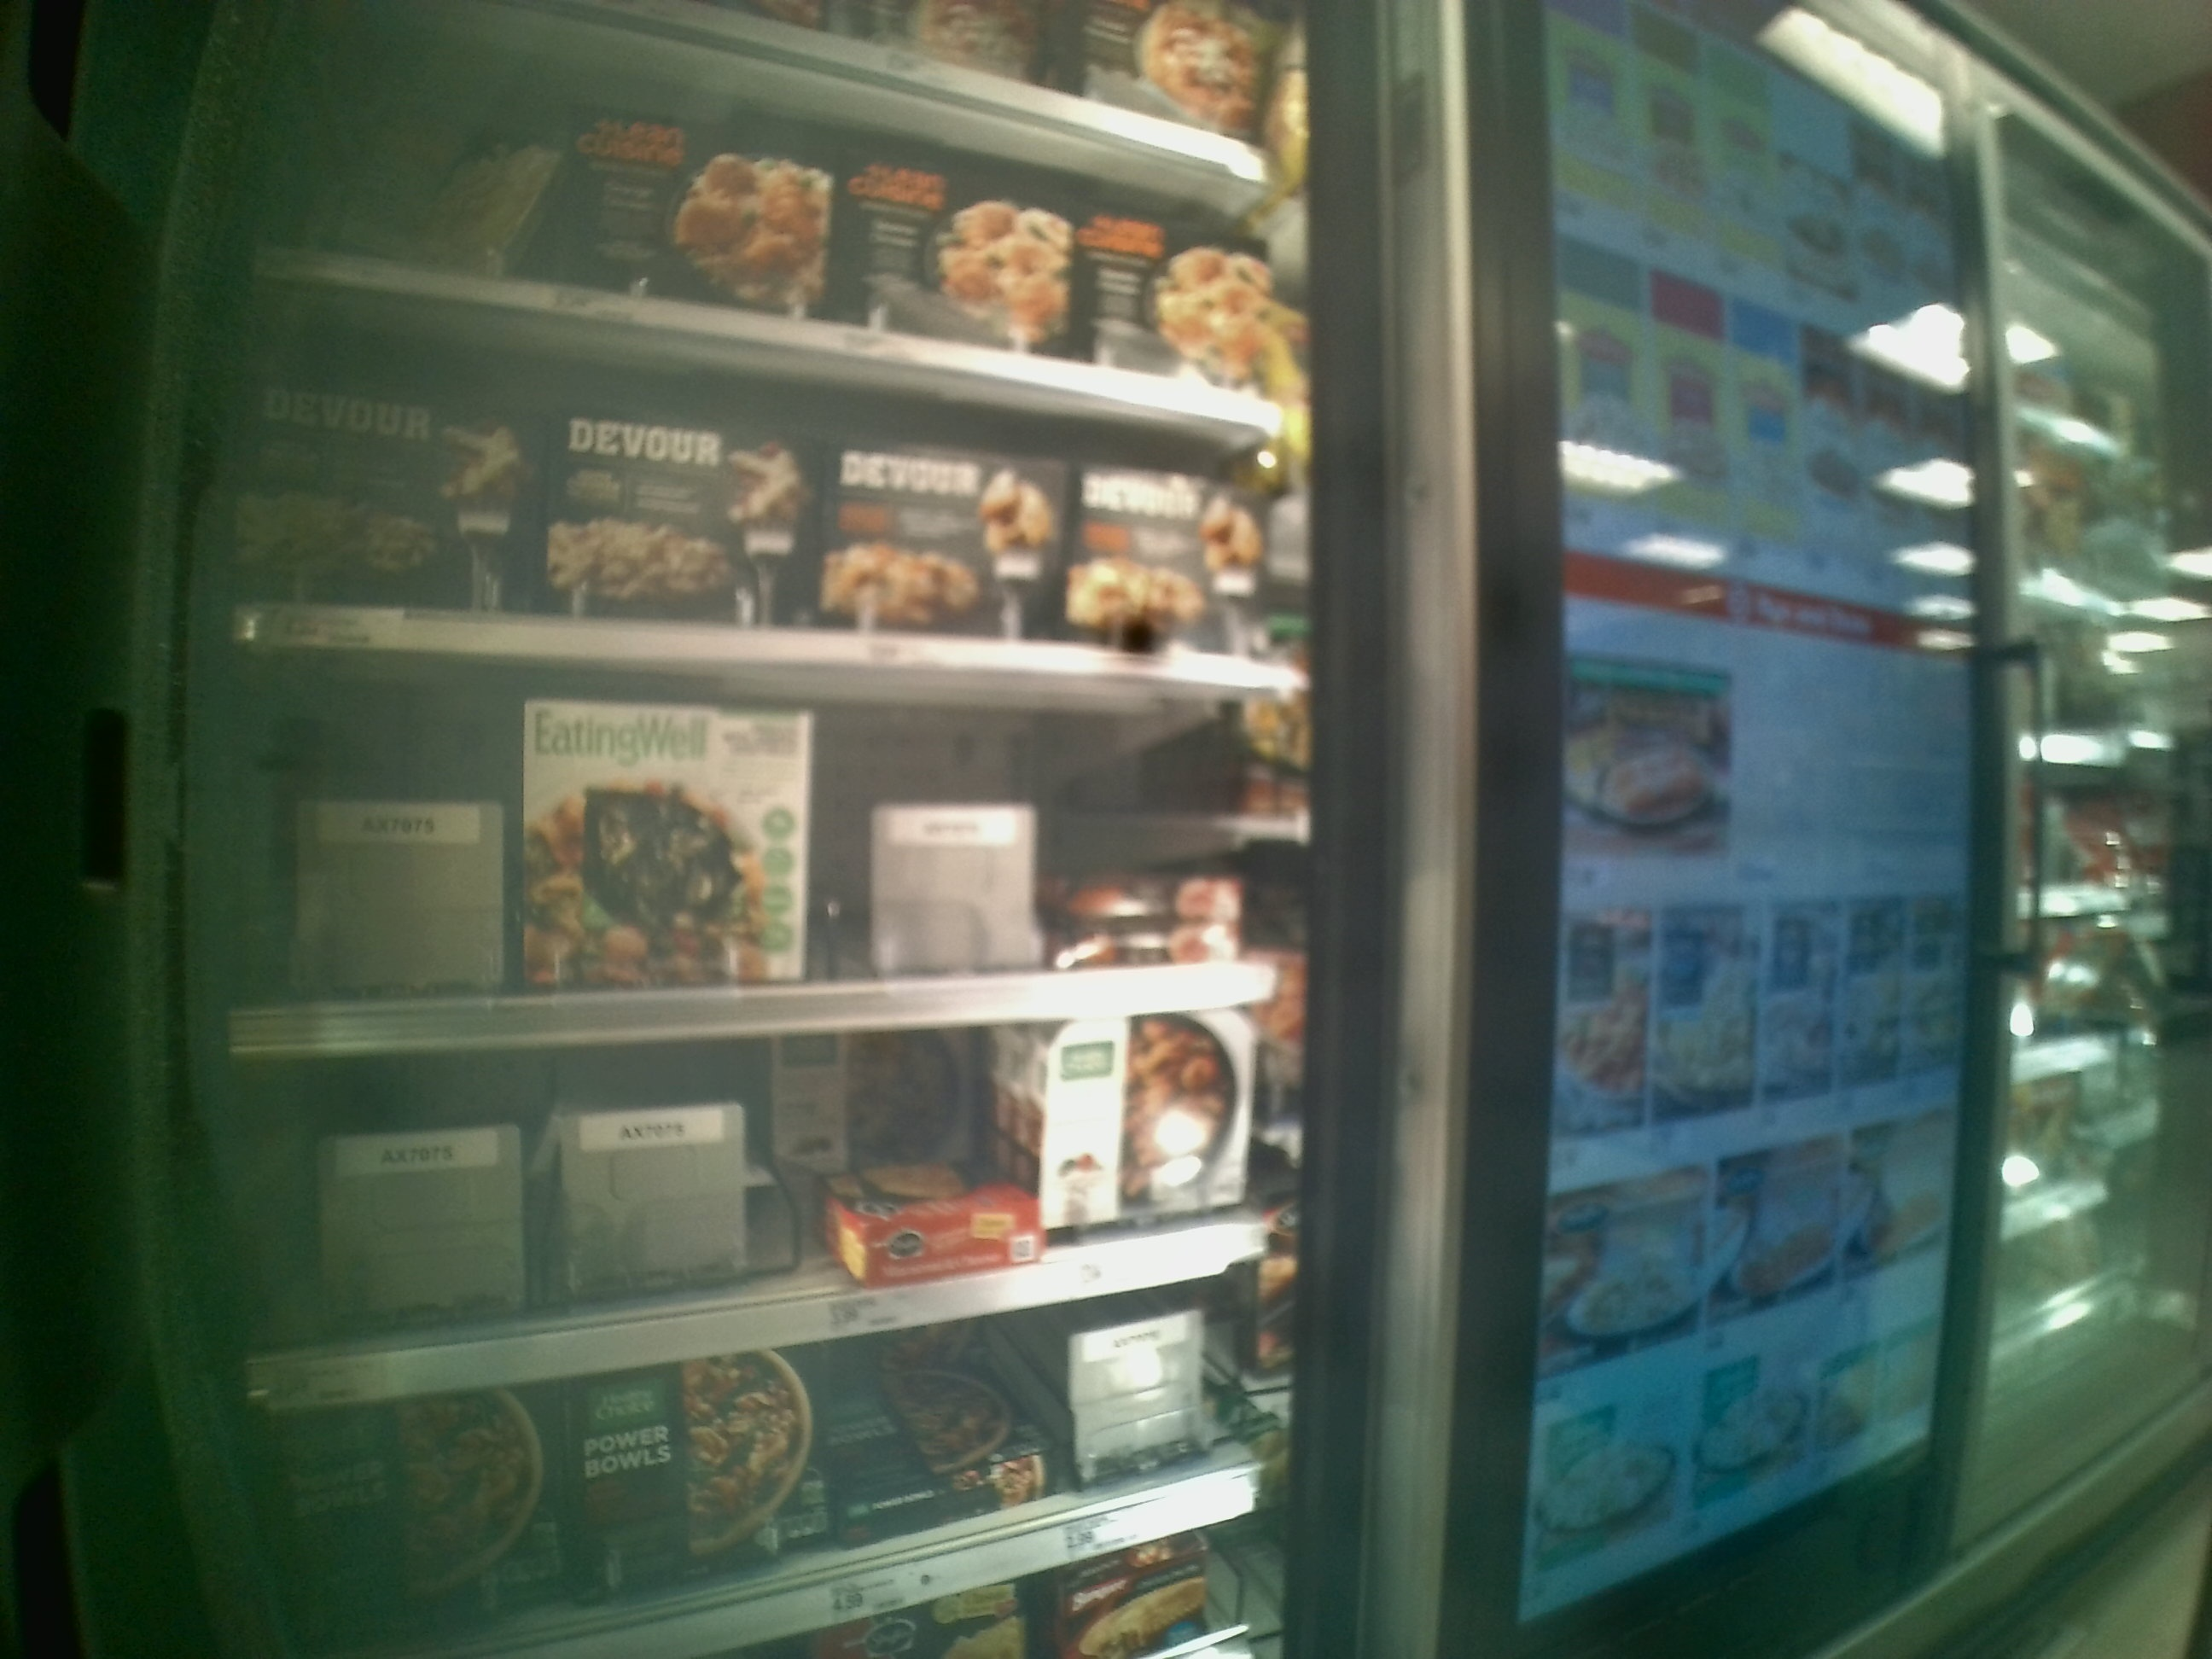shelf: (211, 641, 1315, 1044)
